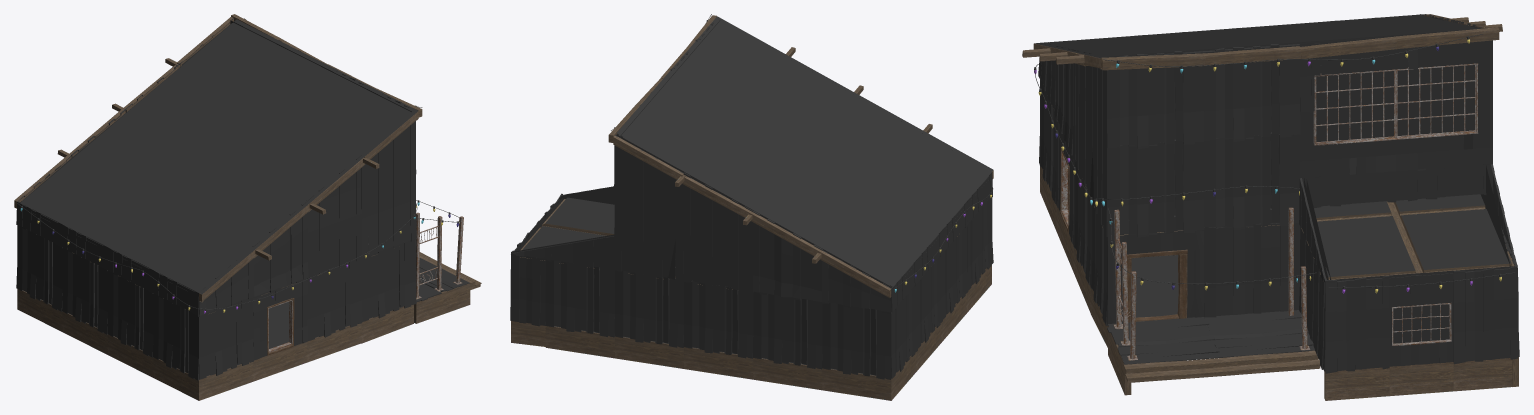
File: SM_MERGED_SM_Wall_CAM22.FBX
The picture shows the model from 3 angles, left to right: view 1: azimuth 30°, elevation 25°; view 2: azimuth 150°, elevation 25°; view 3: azimuth 270°, elevation 25°; orthographic projection. The views are drawn at different scales.
Visible parts, largest first — view 1: SM_MERGED_SM_Wall_CAM22_LOD0; view 2: SM_MERGED_SM_Wall_CAM22_LOD0; view 3: SM_MERGED_SM_Wall_CAM22_LOD0.
Boxes of the visible parts, box(x1,y1,x2,y2) form: SM_MERGED_SM_Wall_CAM22_LOD0: box(14, 14, 481, 400); SM_MERGED_SM_Wall_CAM22_LOD0: box(510, 14, 993, 400); SM_MERGED_SM_Wall_CAM22_LOD0: box(1022, 14, 1519, 400).
Size of the model in its own units: 1754 by 1529 by 1014.
